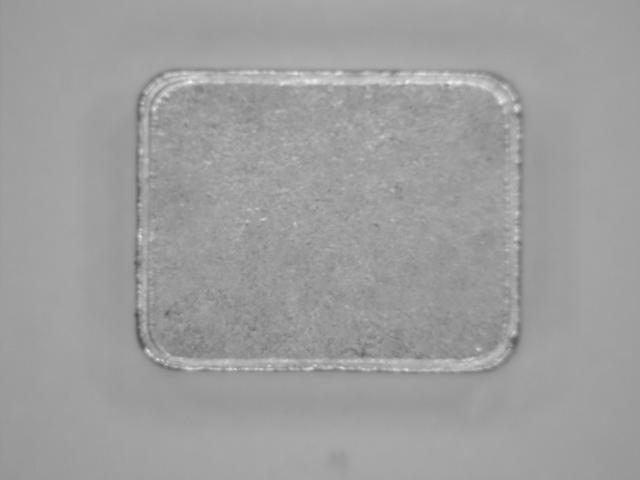nok: (125, 63, 532, 383)
